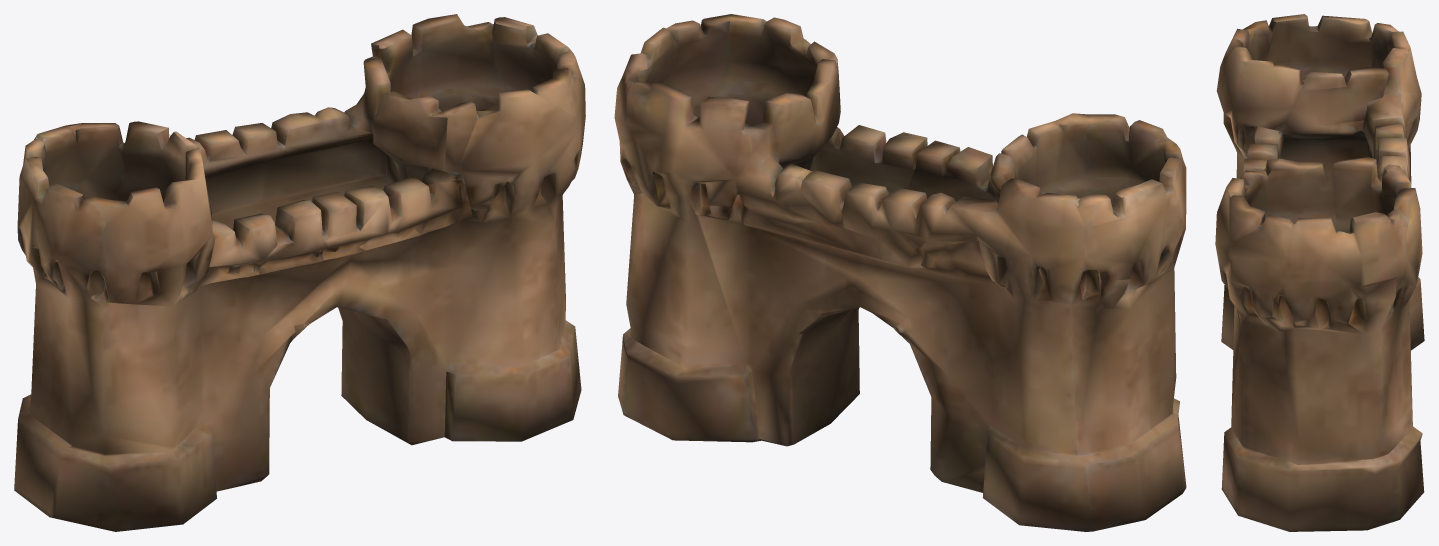
Rendered from simple-sandstone-battlement-wall-v001.glb.
3 views of the same model, side by side, from view 1: azimuth 30°, elevation 25°; view 2: azimuth 150°, elevation 25°; view 3: azimuth 270°, elevation 25° (orthographic). The views are drawn at different scales.
Parts seen in each view (by area): view 1: simple-sandstone-battlement-wall; view 2: simple-sandstone-battlement-wall; view 3: simple-sandstone-battlement-wall.
Part boxes in pixels (x1,y1,x2,y2): simple-sandstone-battlement-wall: (14,14,585,531); simple-sandstone-battlement-wall: (614,14,1186,531); simple-sandstone-battlement-wall: (1215,14,1424,531).
Size of the model in its own units: 2.63 by 1.62 by 1.01.
1 material, 1 textured.
